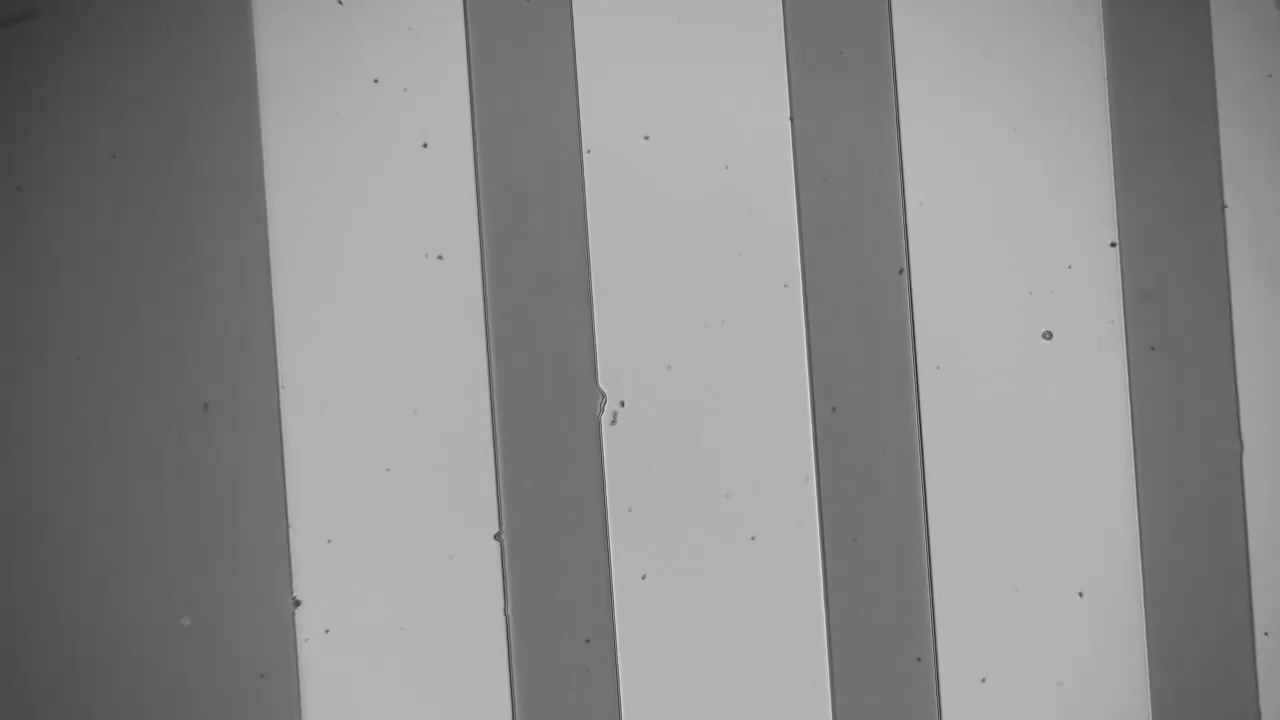edge_bite: (590, 380, 623, 421)
